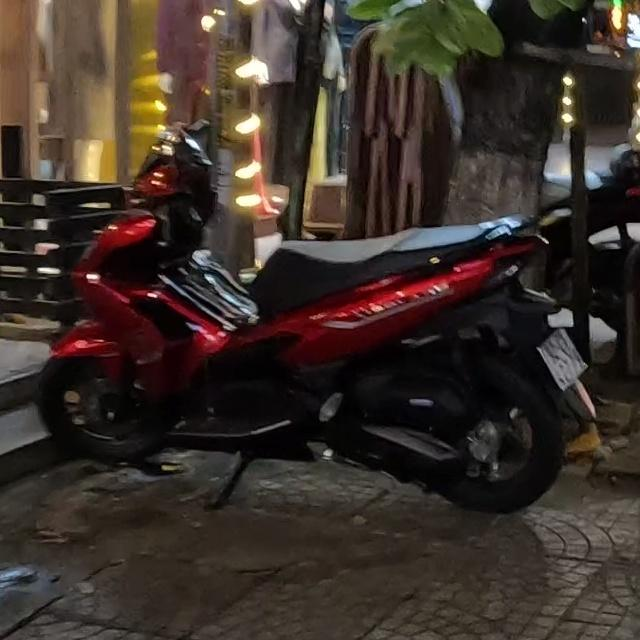license-plate: (532, 325, 592, 394)
